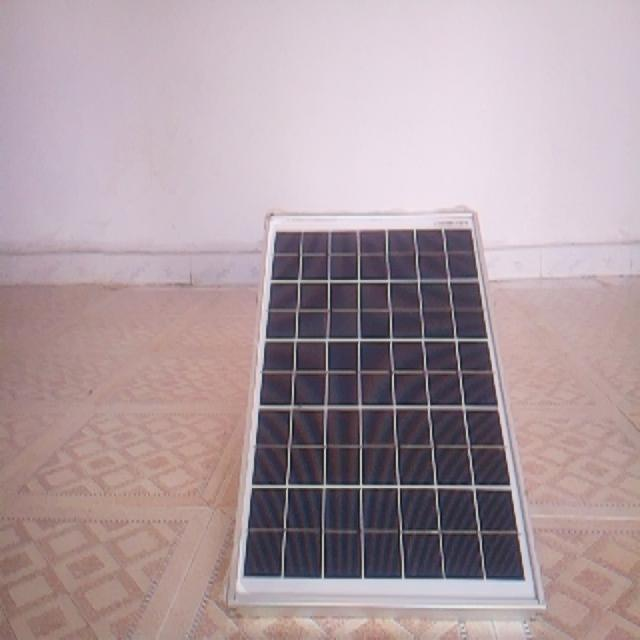Normal Solar Panel: (228, 208, 545, 619)
